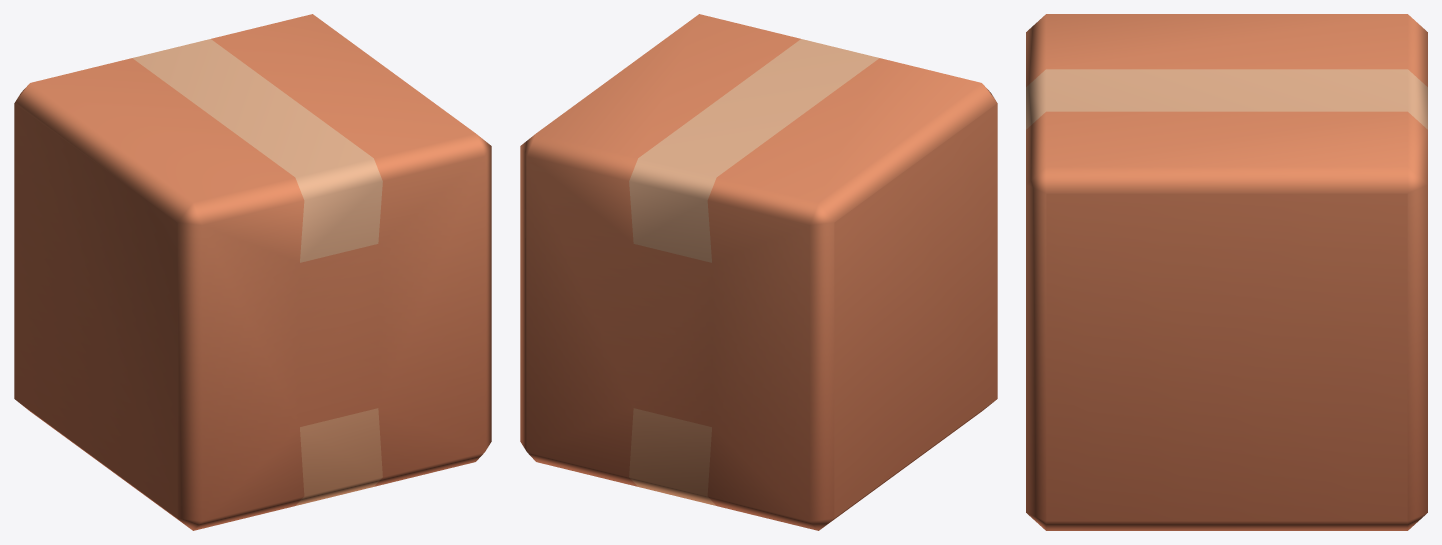
3 renders of one model, left to right at view 1: azimuth 30°, elevation 25°; view 2: azimuth 150°, elevation 25°; view 3: azimuth 270°, elevation 25°, orthographic. The views are drawn at different scales.
Parts seen in each view (by area): view 1: box; view 2: box; view 3: box.
Boxes of the visible parts, x1,y1,x2,y2 form: box: (14,14,491,530); box: (520,14,997,530); box: (1026,14,1427,530).
Size of the model in its own units: 1.07 by 1.07 by 1.07.
1 material, 1 textured.
